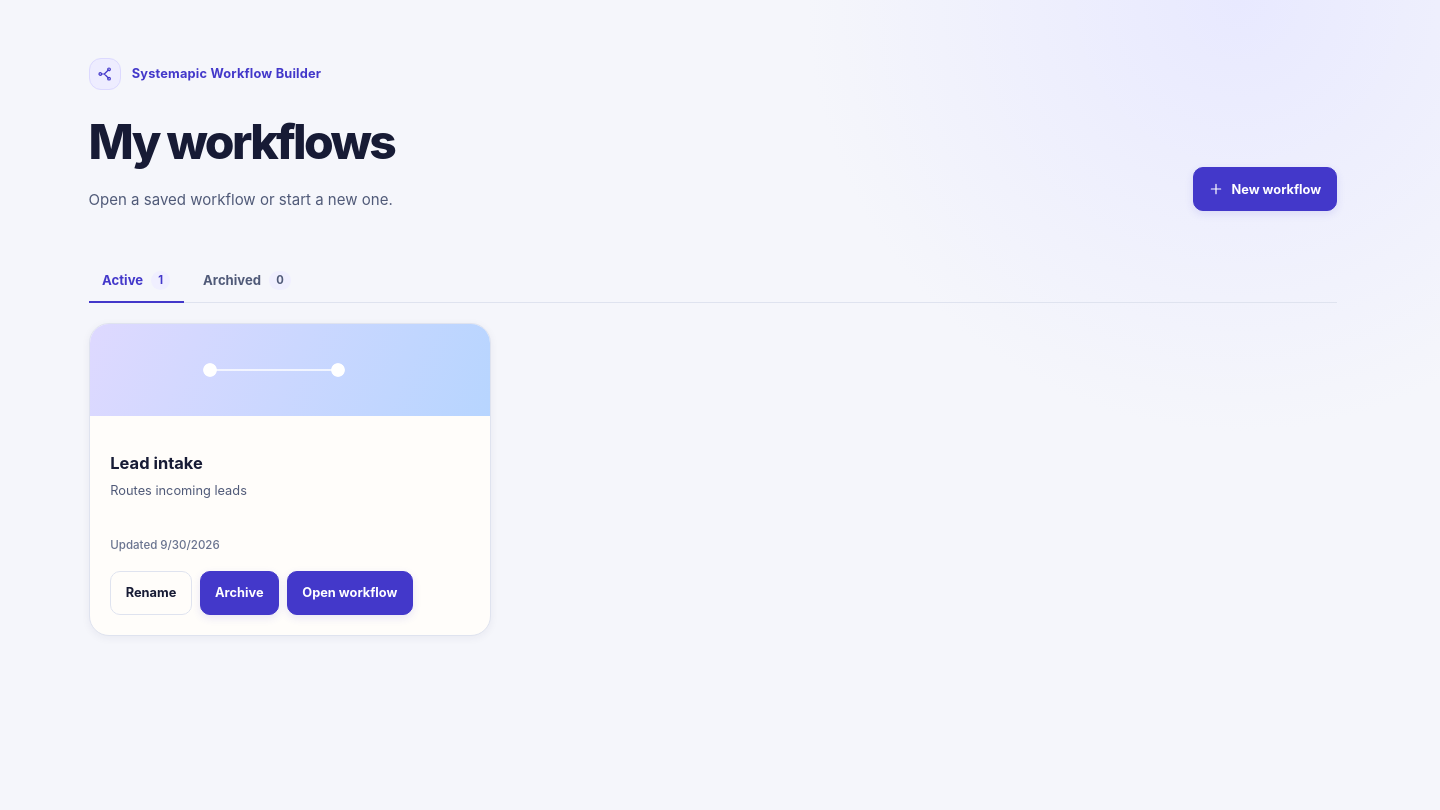
Test case: WorkflowLibrary › renames a workflow and refreshes its library title
The image size is (1440, 810).
Click the button "Rename".
click(151, 593)  # box [110,571,192,615]
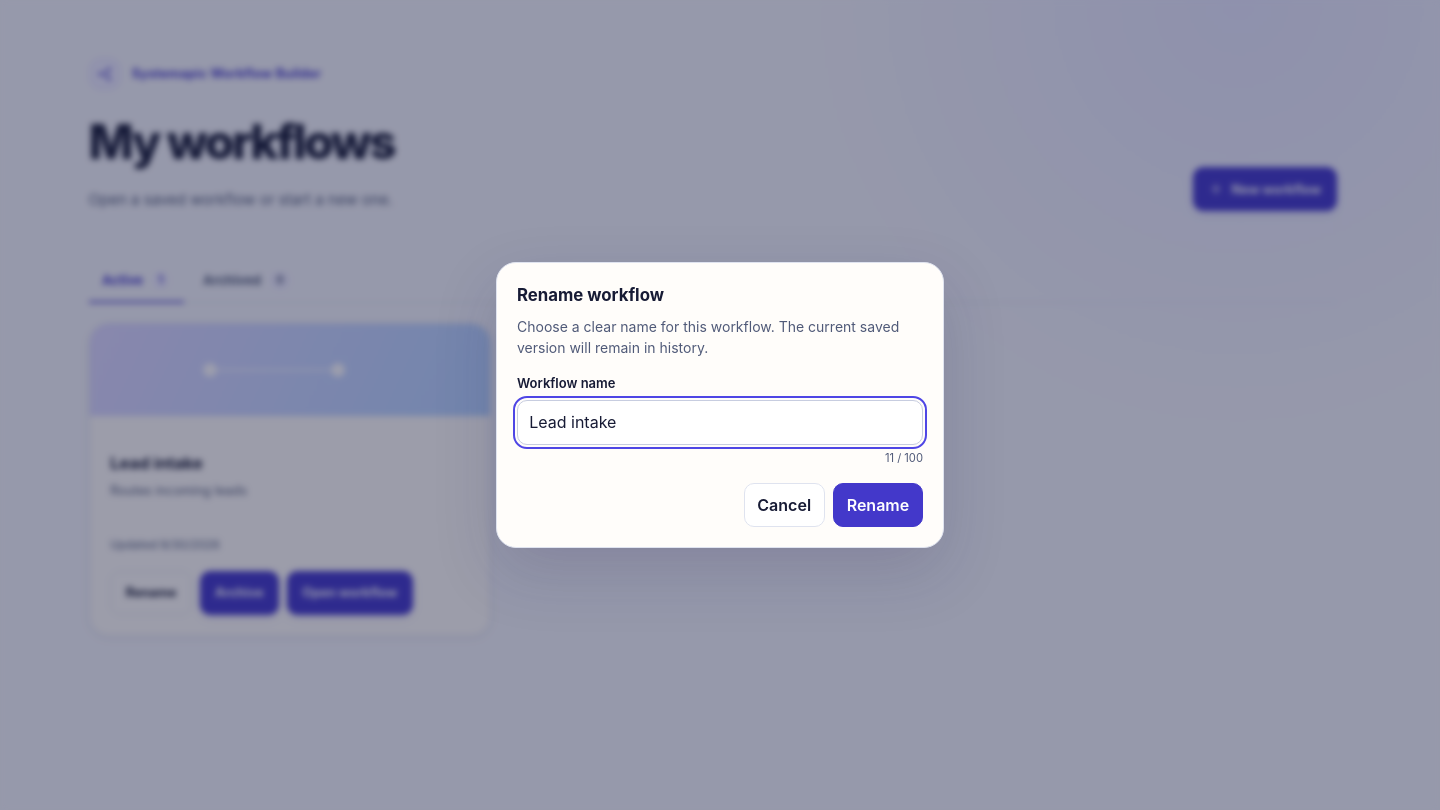
Replace the text in the field labelled "Workflow name" with "  Qualified leads  " at coordinates (720, 422), box [517,400,923,445]
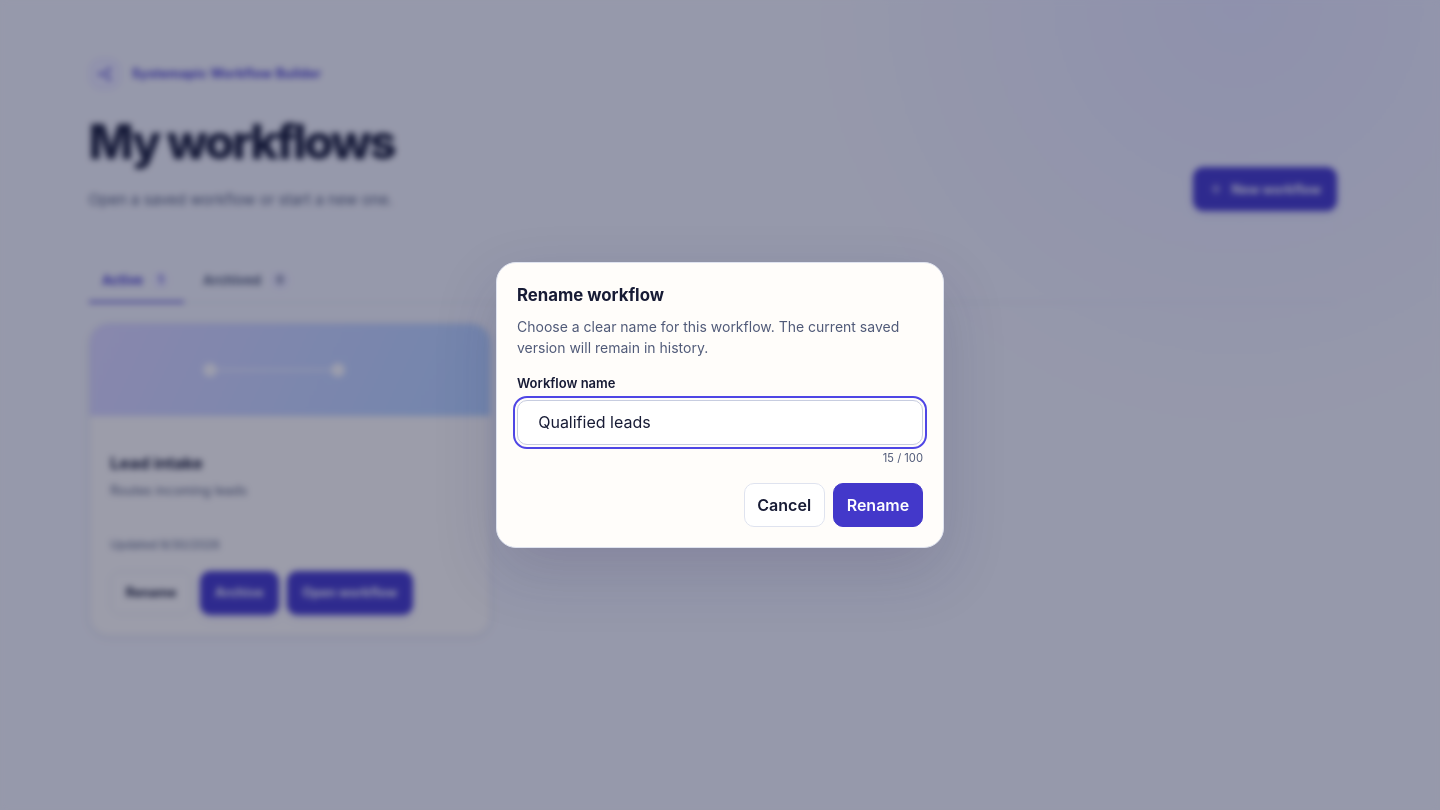
Click the button "Rename".
click(878, 505)  # box [833,483,923,527]
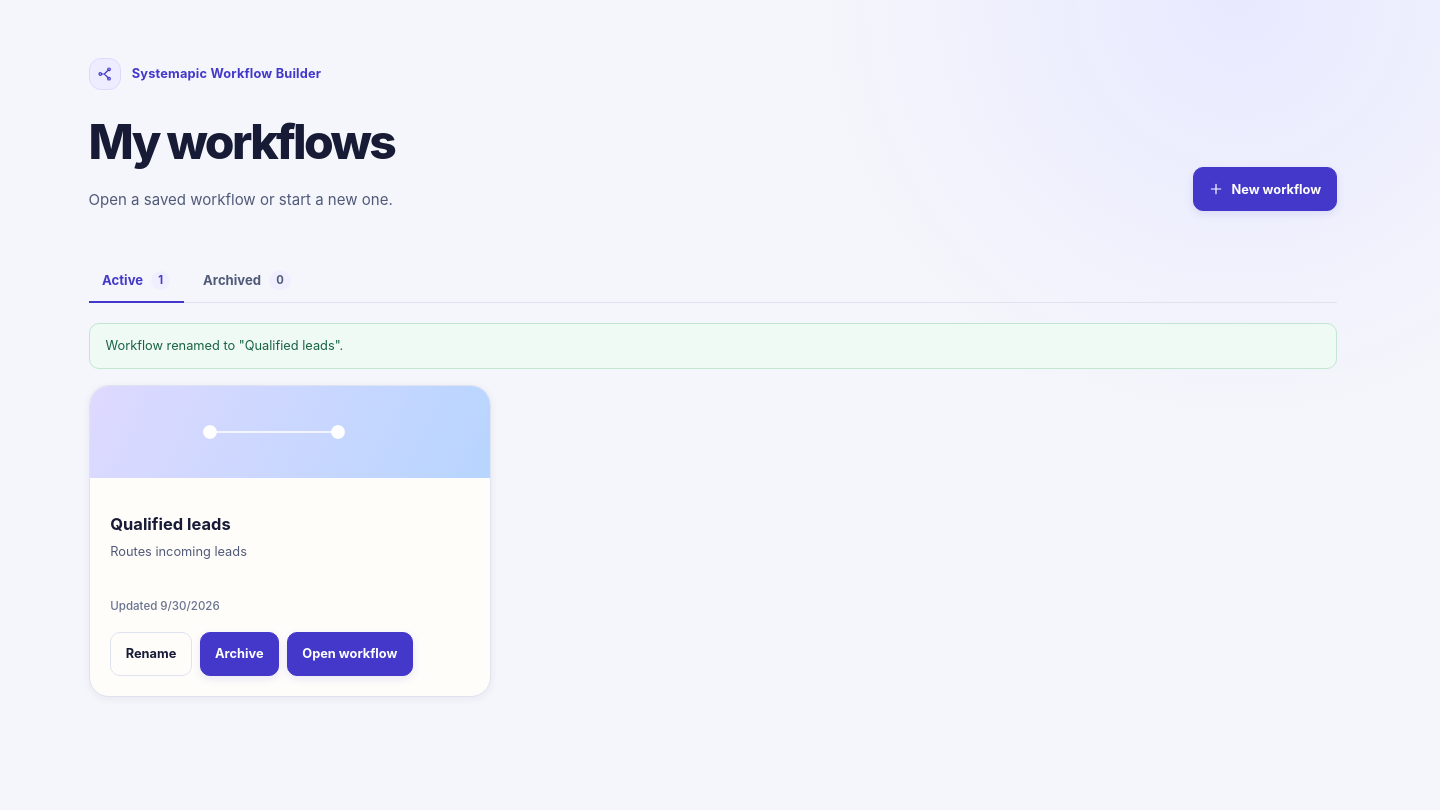
Check: the heading "Qualified leads" is shown, box [110,514,231,534]
Check: the message reads "Workflow renamed to \"Qualified leads\".", box [106,338,343,353]
